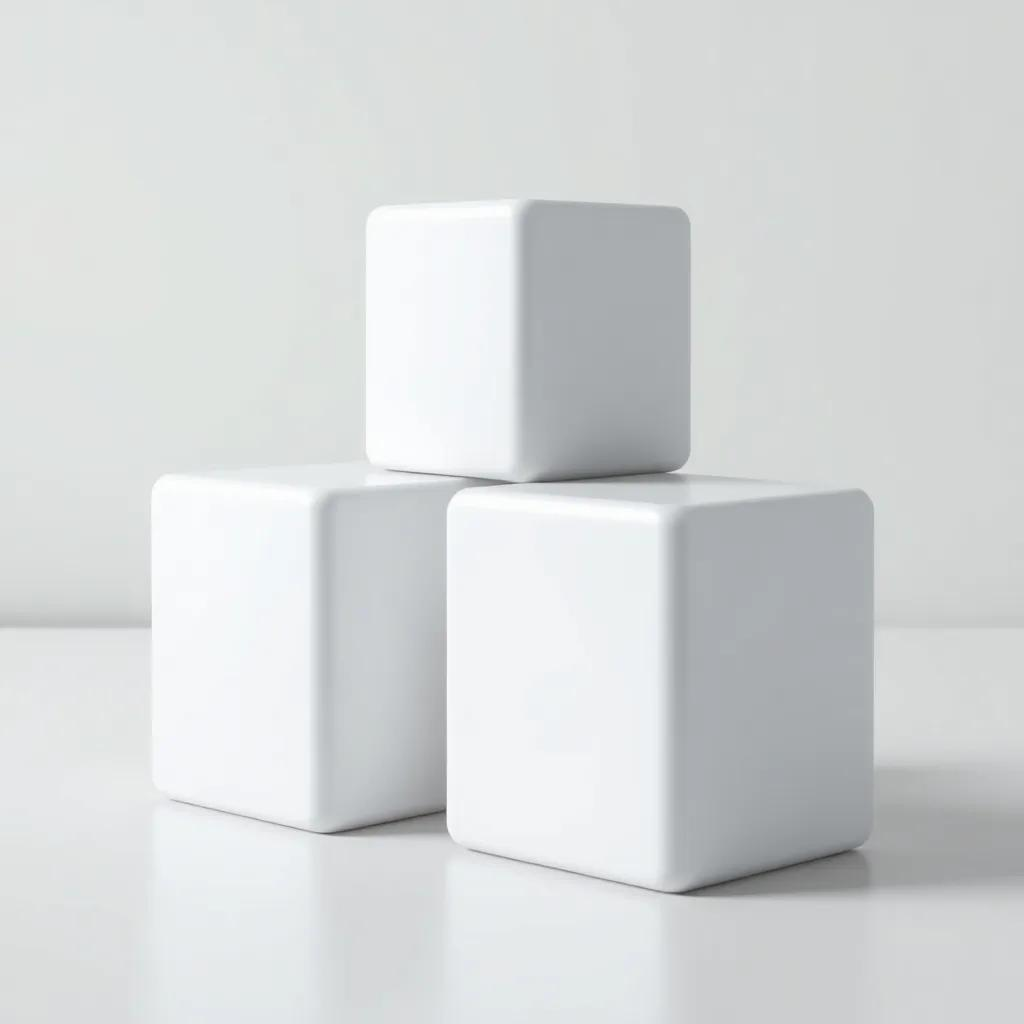cube: (444, 471, 875, 894), (148, 460, 495, 834), (363, 196, 692, 483)
